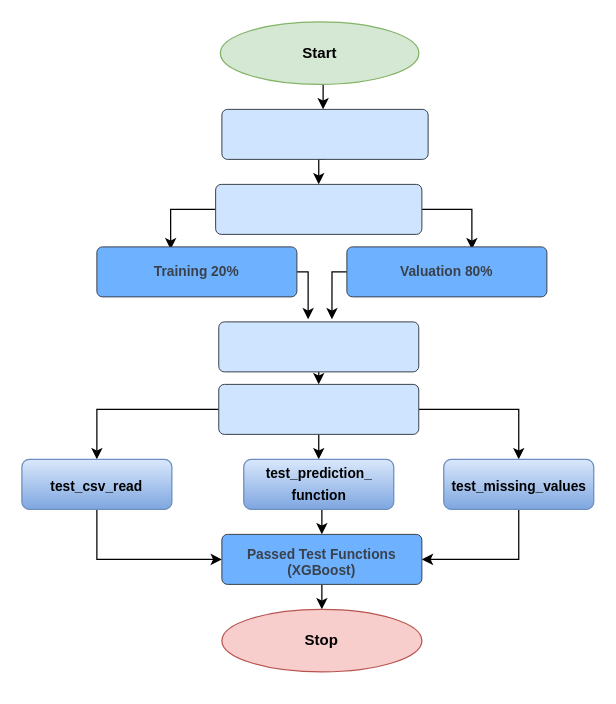
Image size: 616x704. Some labels were removed from this diagram. Each missing label, with the box of its shape:
Data Collection: (221, 108, 428, 159)
Data Processing & Transformation (main code): (214, 183, 422, 234)
Importing var from Main code: (218, 321, 419, 372)
Testing Function in Class TestDataValidation: (218, 383, 419, 434)
